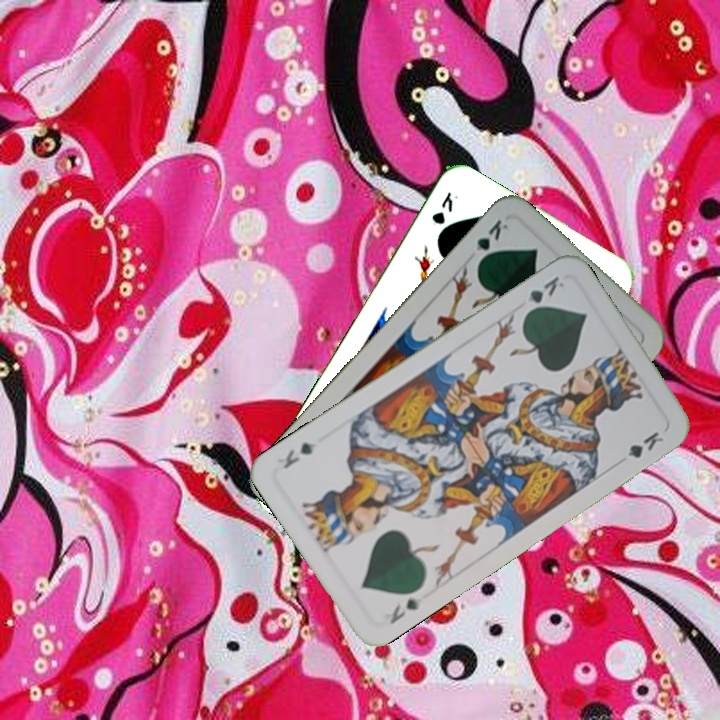GK: (464, 215, 512, 268), (520, 272, 567, 318), (385, 592, 425, 627), (427, 188, 461, 228)
